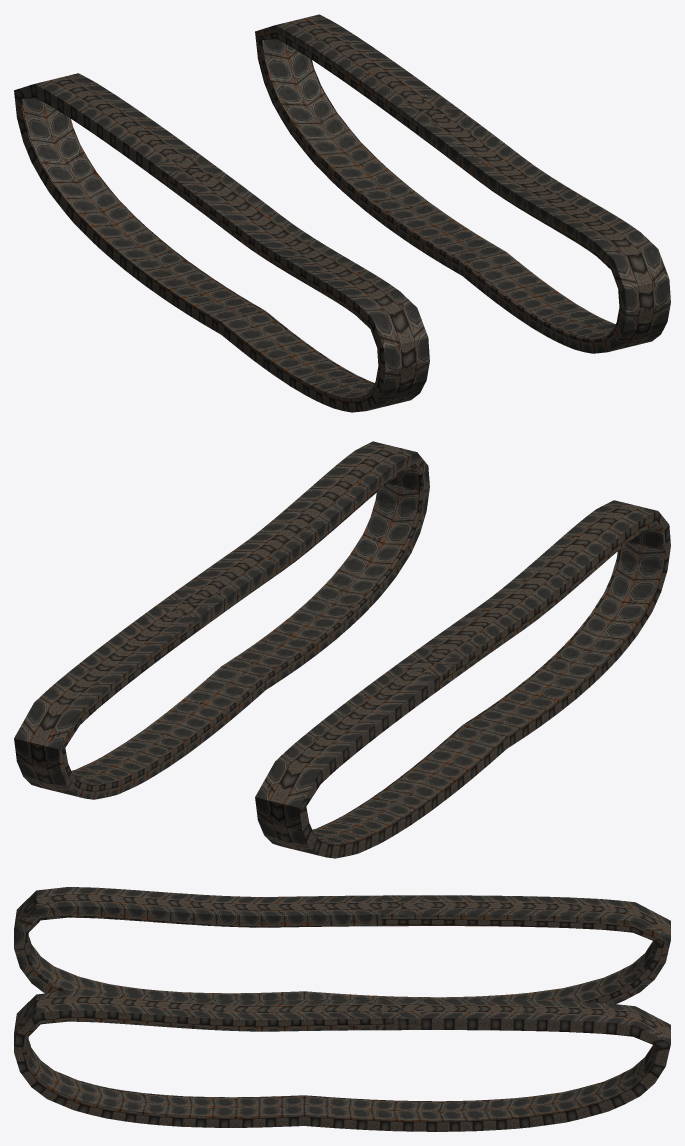
Rendered from track.fbx.
The picture shows the model from 3 angles, top to bottom: view 1: azimuth 30°, elevation 25°; view 2: azimuth 150°, elevation 25°; view 3: azimuth 270°, elevation 25°; orthographic projection. The views are drawn at different scales.
Visible parts, largest first — view 1: track; view 2: track; view 3: track.
Boxes of the visible parts, x1,y1,x2,y2 form: track: [14, 14, 670, 412]; track: [14, 441, 670, 858]; track: [14, 887, 670, 1131].
Bounding box in the file's own units: 1.76 × 3.98 × 0.8136.
